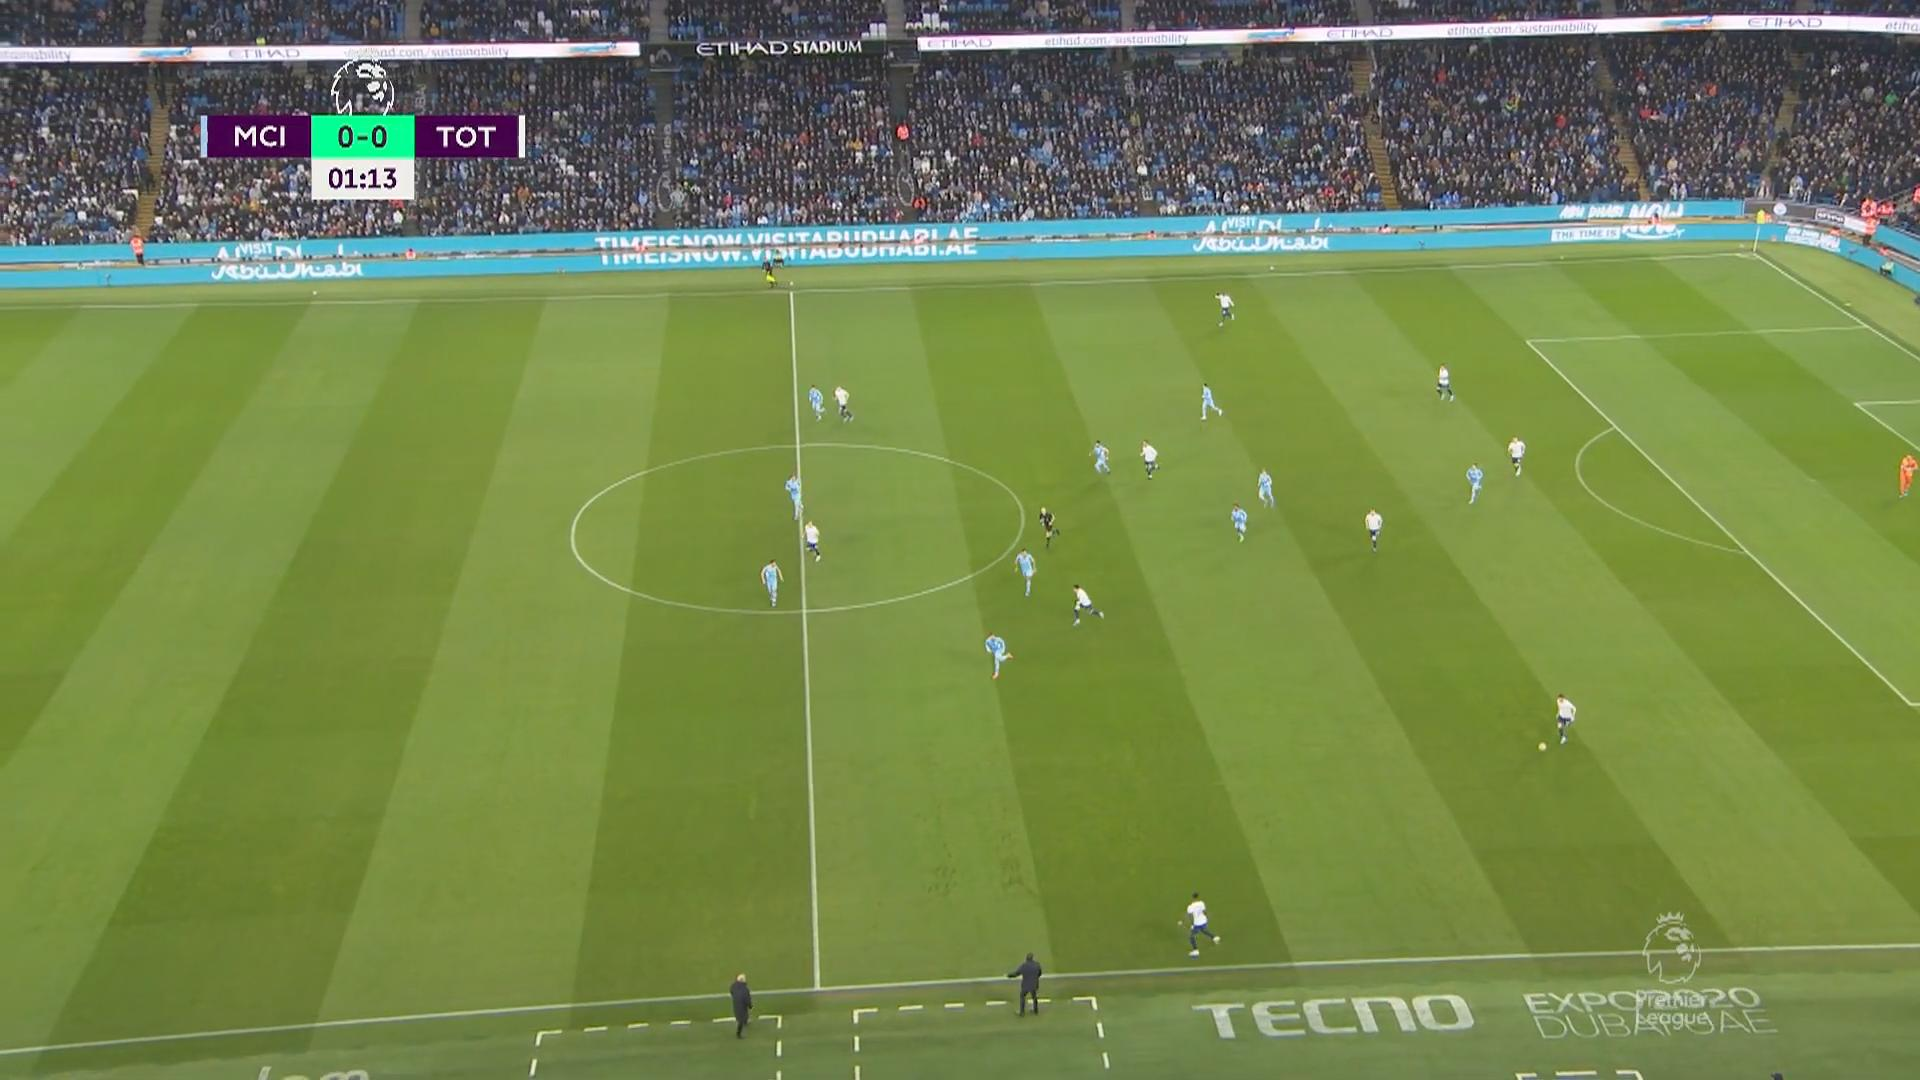ball: (1538, 742, 1546, 751)
goalkeeper: (1897, 452, 1917, 497)
player: (1176, 891, 1221, 957), (1070, 583, 1104, 627), (983, 632, 1012, 680), (1554, 692, 1576, 744), (759, 558, 782, 607), (1014, 549, 1035, 597), (1199, 382, 1223, 421), (784, 472, 802, 520), (1364, 507, 1383, 551), (1506, 435, 1526, 476), (1139, 438, 1159, 479), (832, 384, 853, 423), (802, 519, 821, 562), (1465, 462, 1483, 505), (1229, 503, 1248, 542), (1214, 289, 1234, 326), (1435, 363, 1454, 401), (1091, 438, 1111, 474), (1256, 468, 1274, 507), (806, 384, 824, 421)
referee: (1037, 504, 1057, 545)
staff: (1006, 950, 1042, 1015), (728, 972, 752, 1038)
